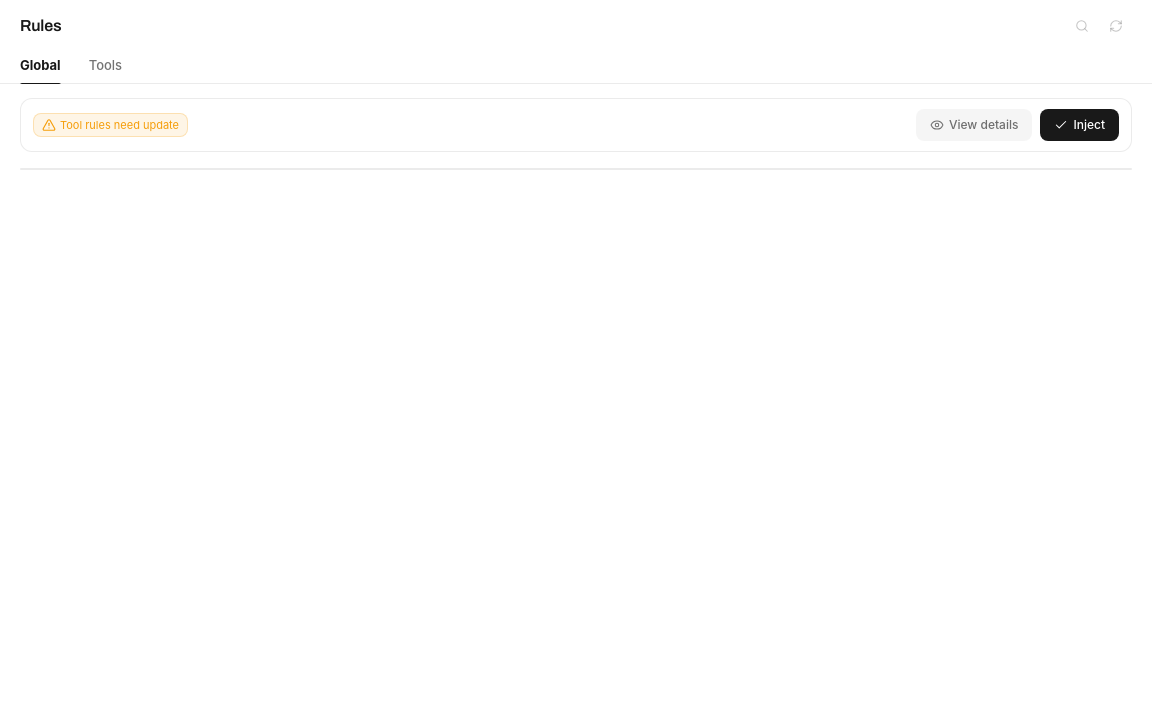
Scenario: RulesModule managed state › keeps pending global rule updates scoped to the rule targets
The image size is (1152, 720).
Expected: the text "Tool rules need update" is shown, [60,118,179,132]
Click the button "View details" at (974, 125), box [916,109,1032,141]
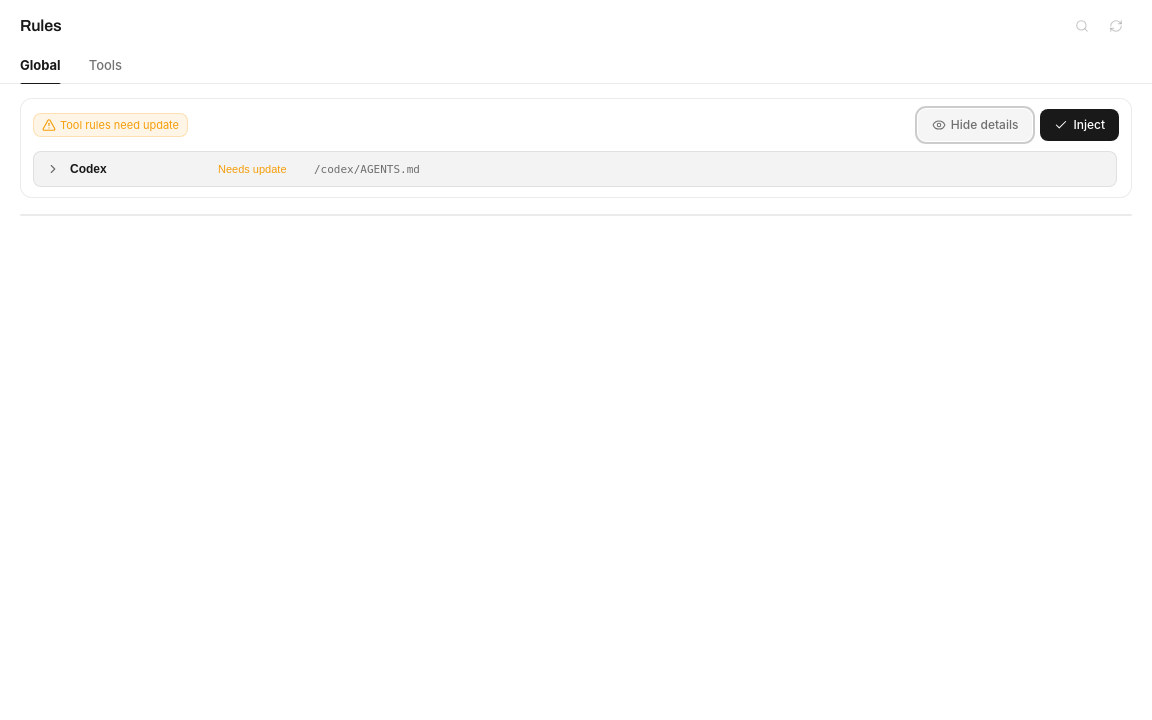
Expected: the button "Codex Needs update /codex/AGENTS.md" is shown, [34,152,1116,186]
Click the button "Inject" at (1080, 125), box [1040,109,1119,141]
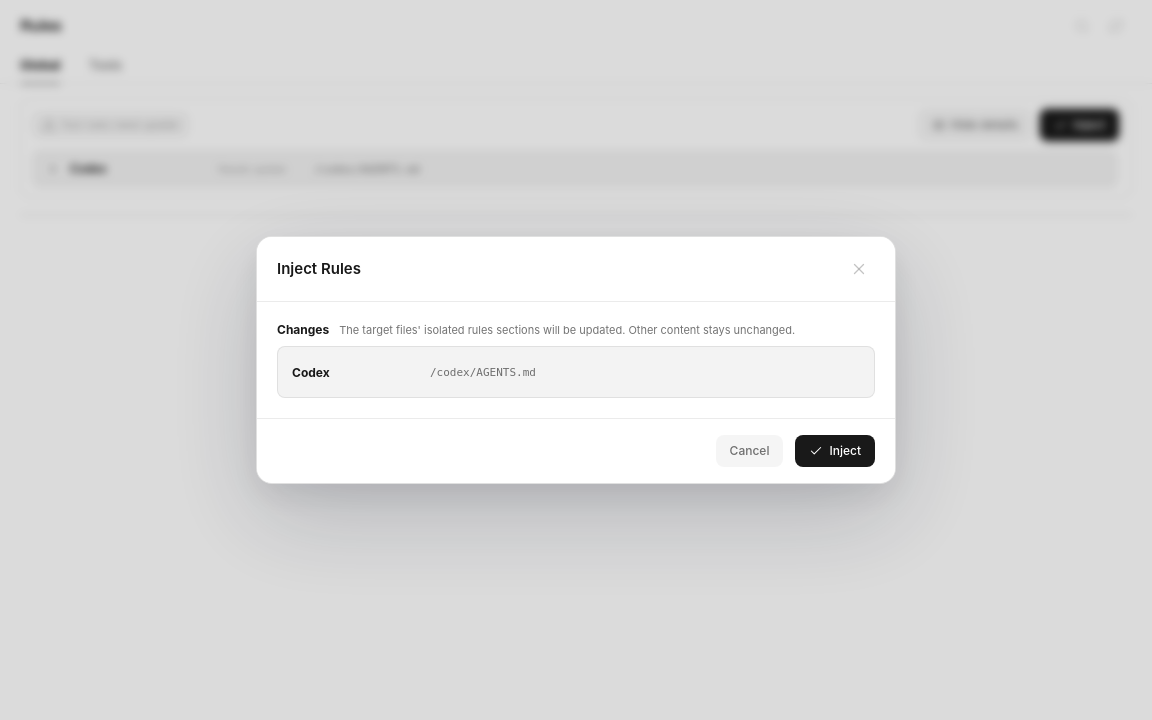
Expected: the text "/codex/AGENTS.md" is shown, [430,366,536,379]
